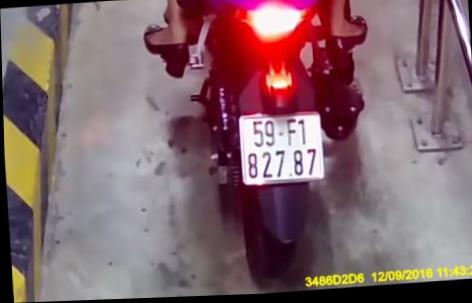LP: (234, 108, 322, 192)
